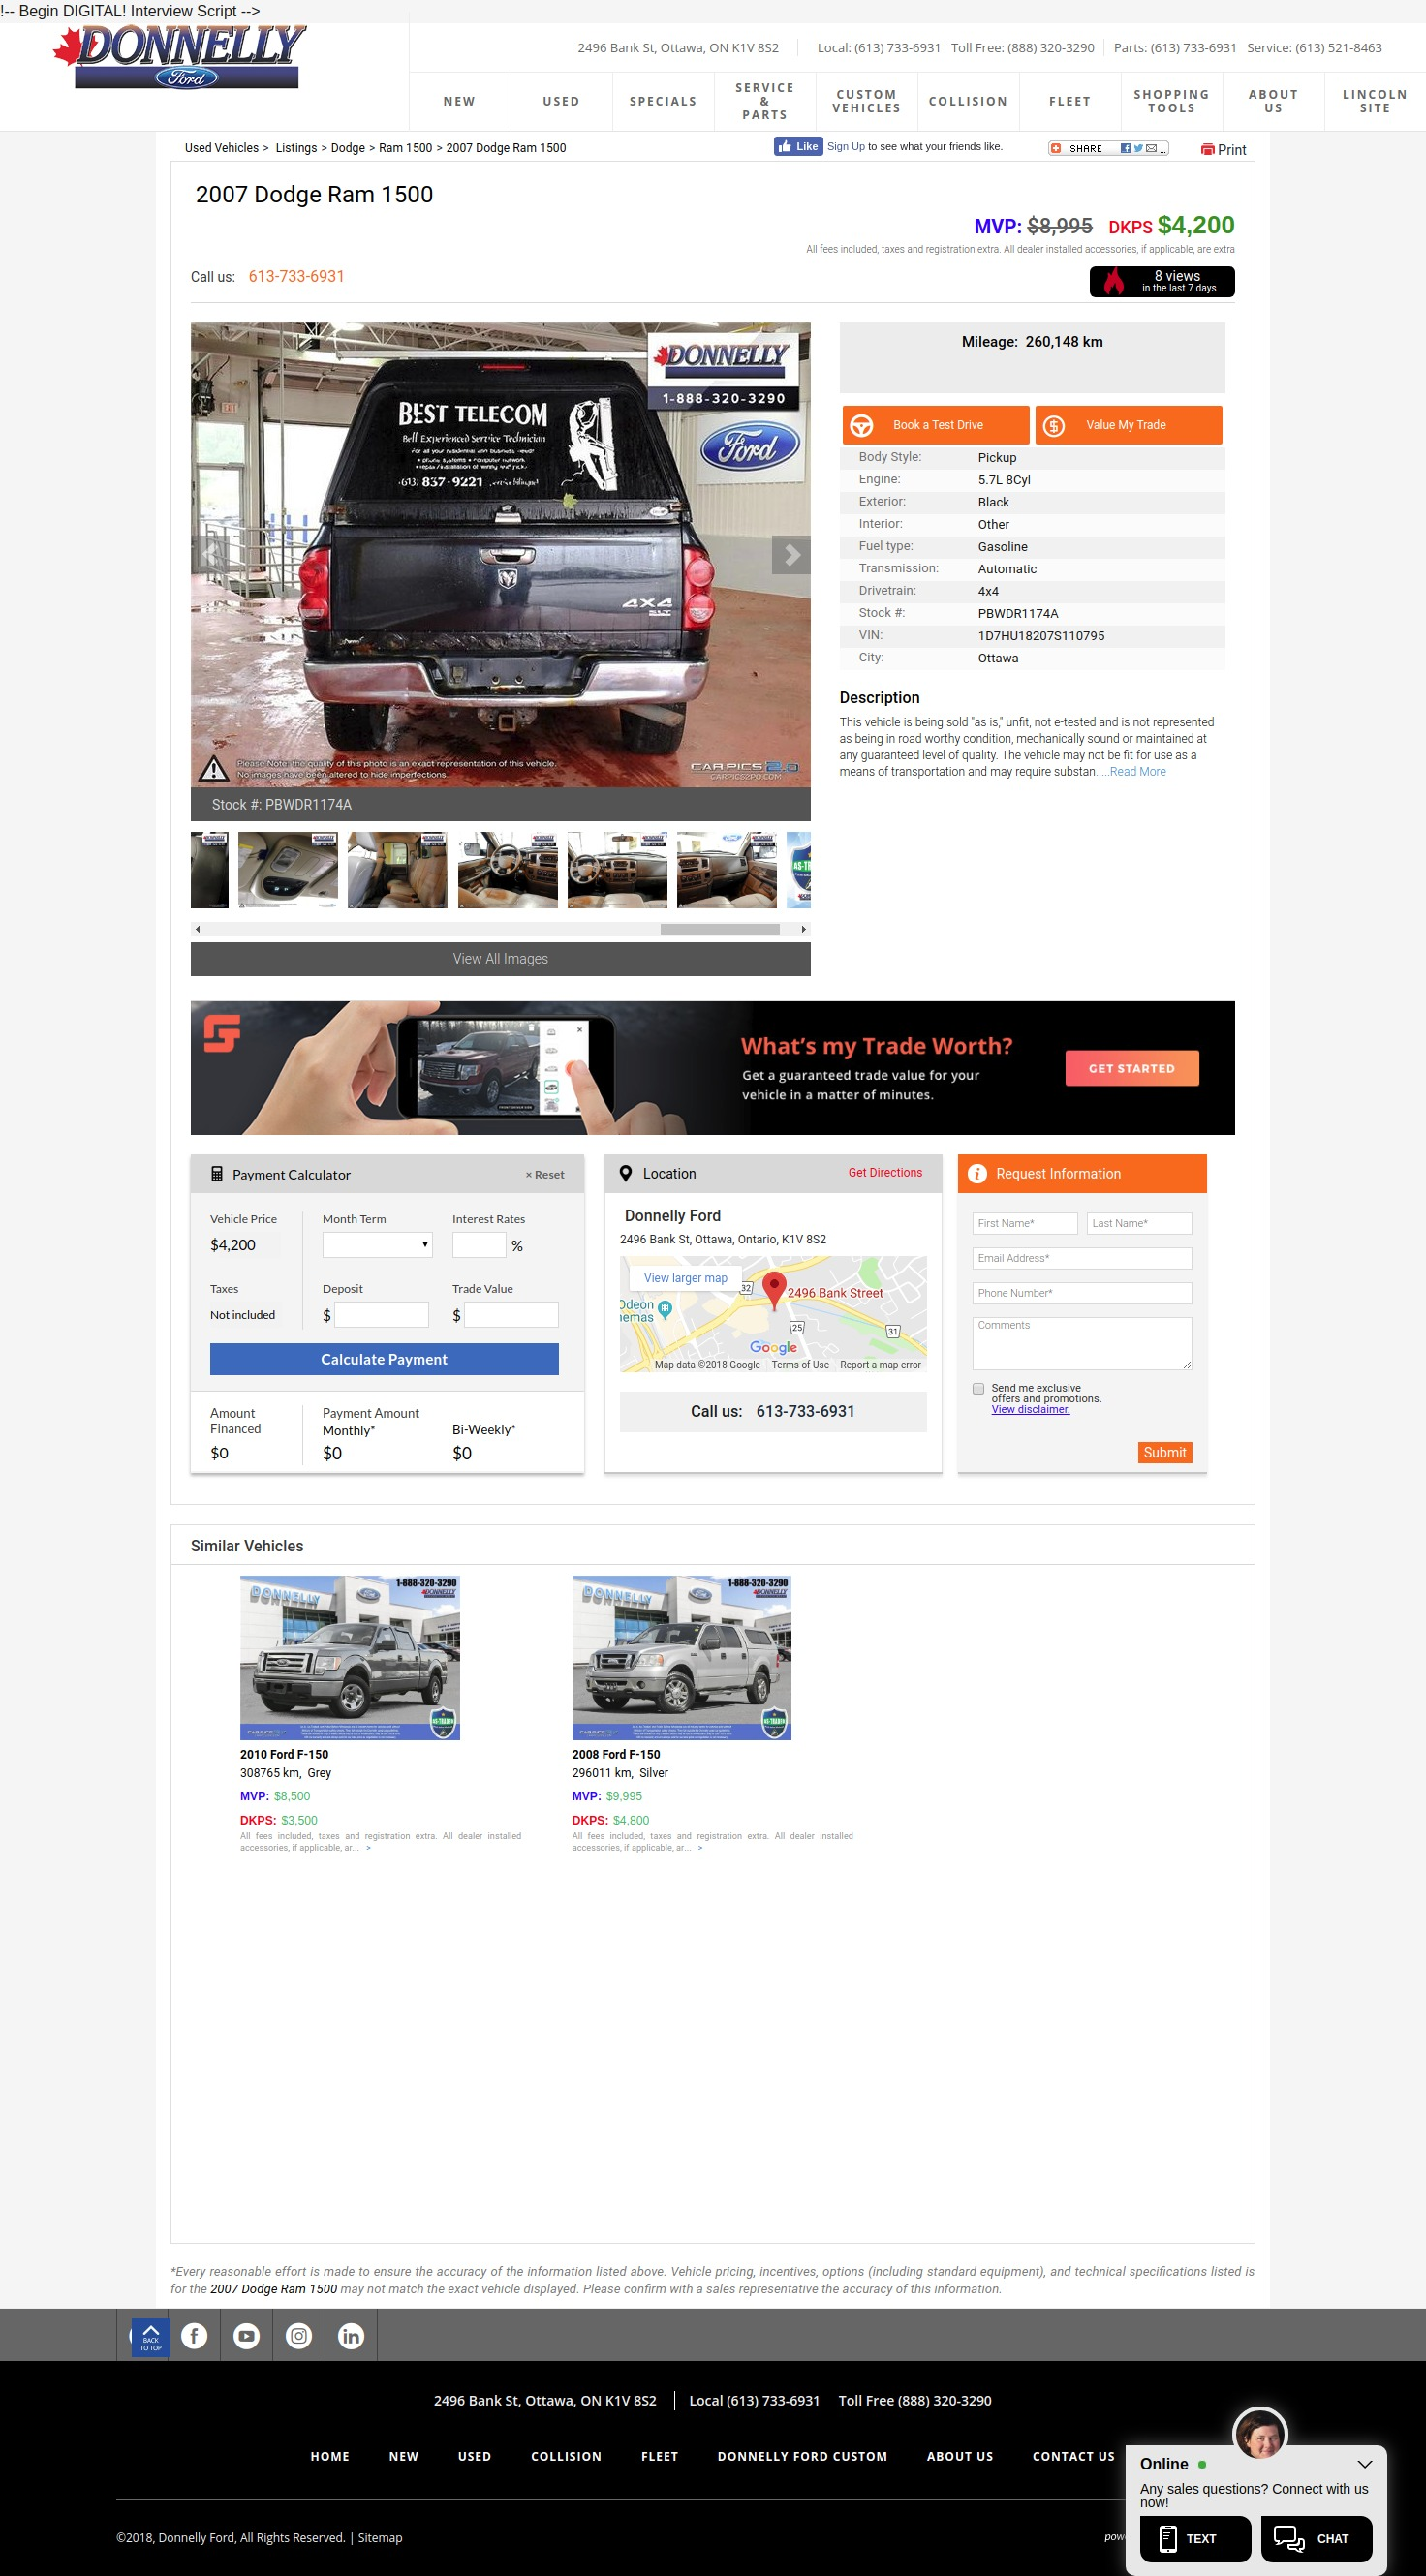car: (803, 927, 808, 935)
